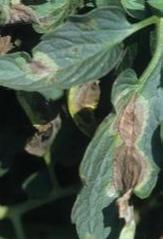Tomato leaf late blight: (67, 18, 163, 239), (0, 11, 140, 96)
